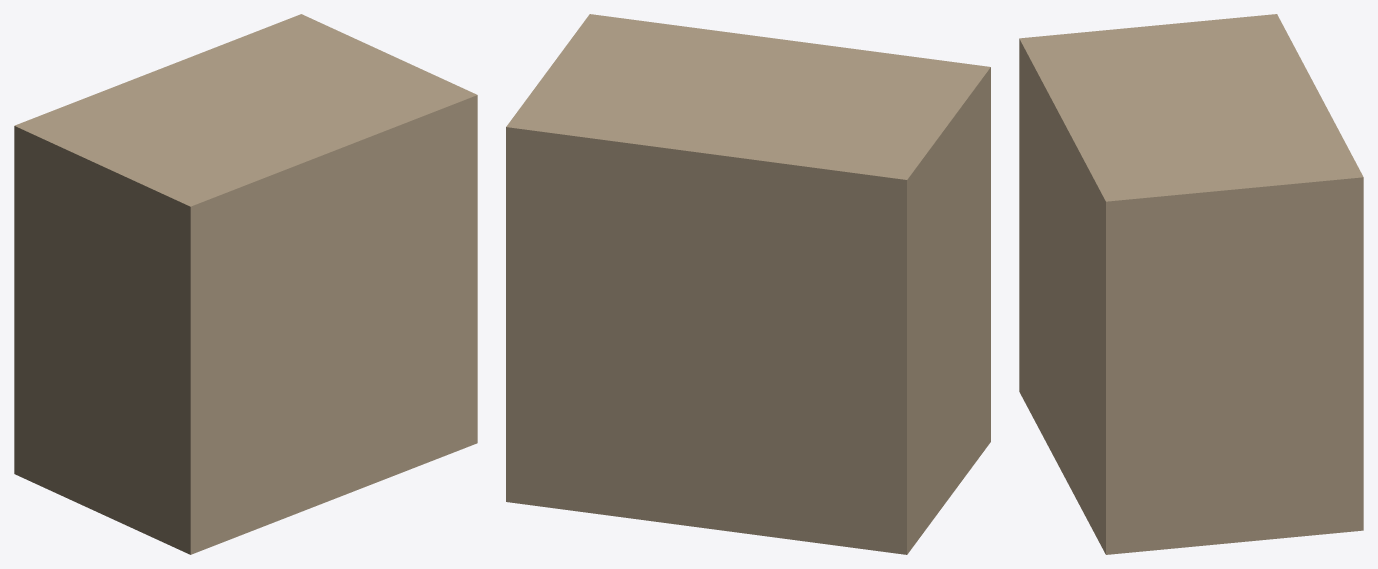
The model's file is bld_106456005.dae.
3 views of the same model, side by side, from view 1: azimuth 30°, elevation 25°; view 2: azimuth 150°, elevation 25°; view 3: azimuth 270°, elevation 25° (orthographic). The views are drawn at different scales.
Parts seen in each view (by area): view 1: bld_106456005; view 2: bld_106456005; view 3: bld_106456005.
Part boxes in pixels (bbox=[...]): bld_106456005: bbox=[14, 14, 477, 554]; bld_106456005: bbox=[506, 14, 990, 554]; bld_106456005: bbox=[1019, 14, 1363, 554].
Size of the model in its own units: 9.11 by 7.07 by 8.
